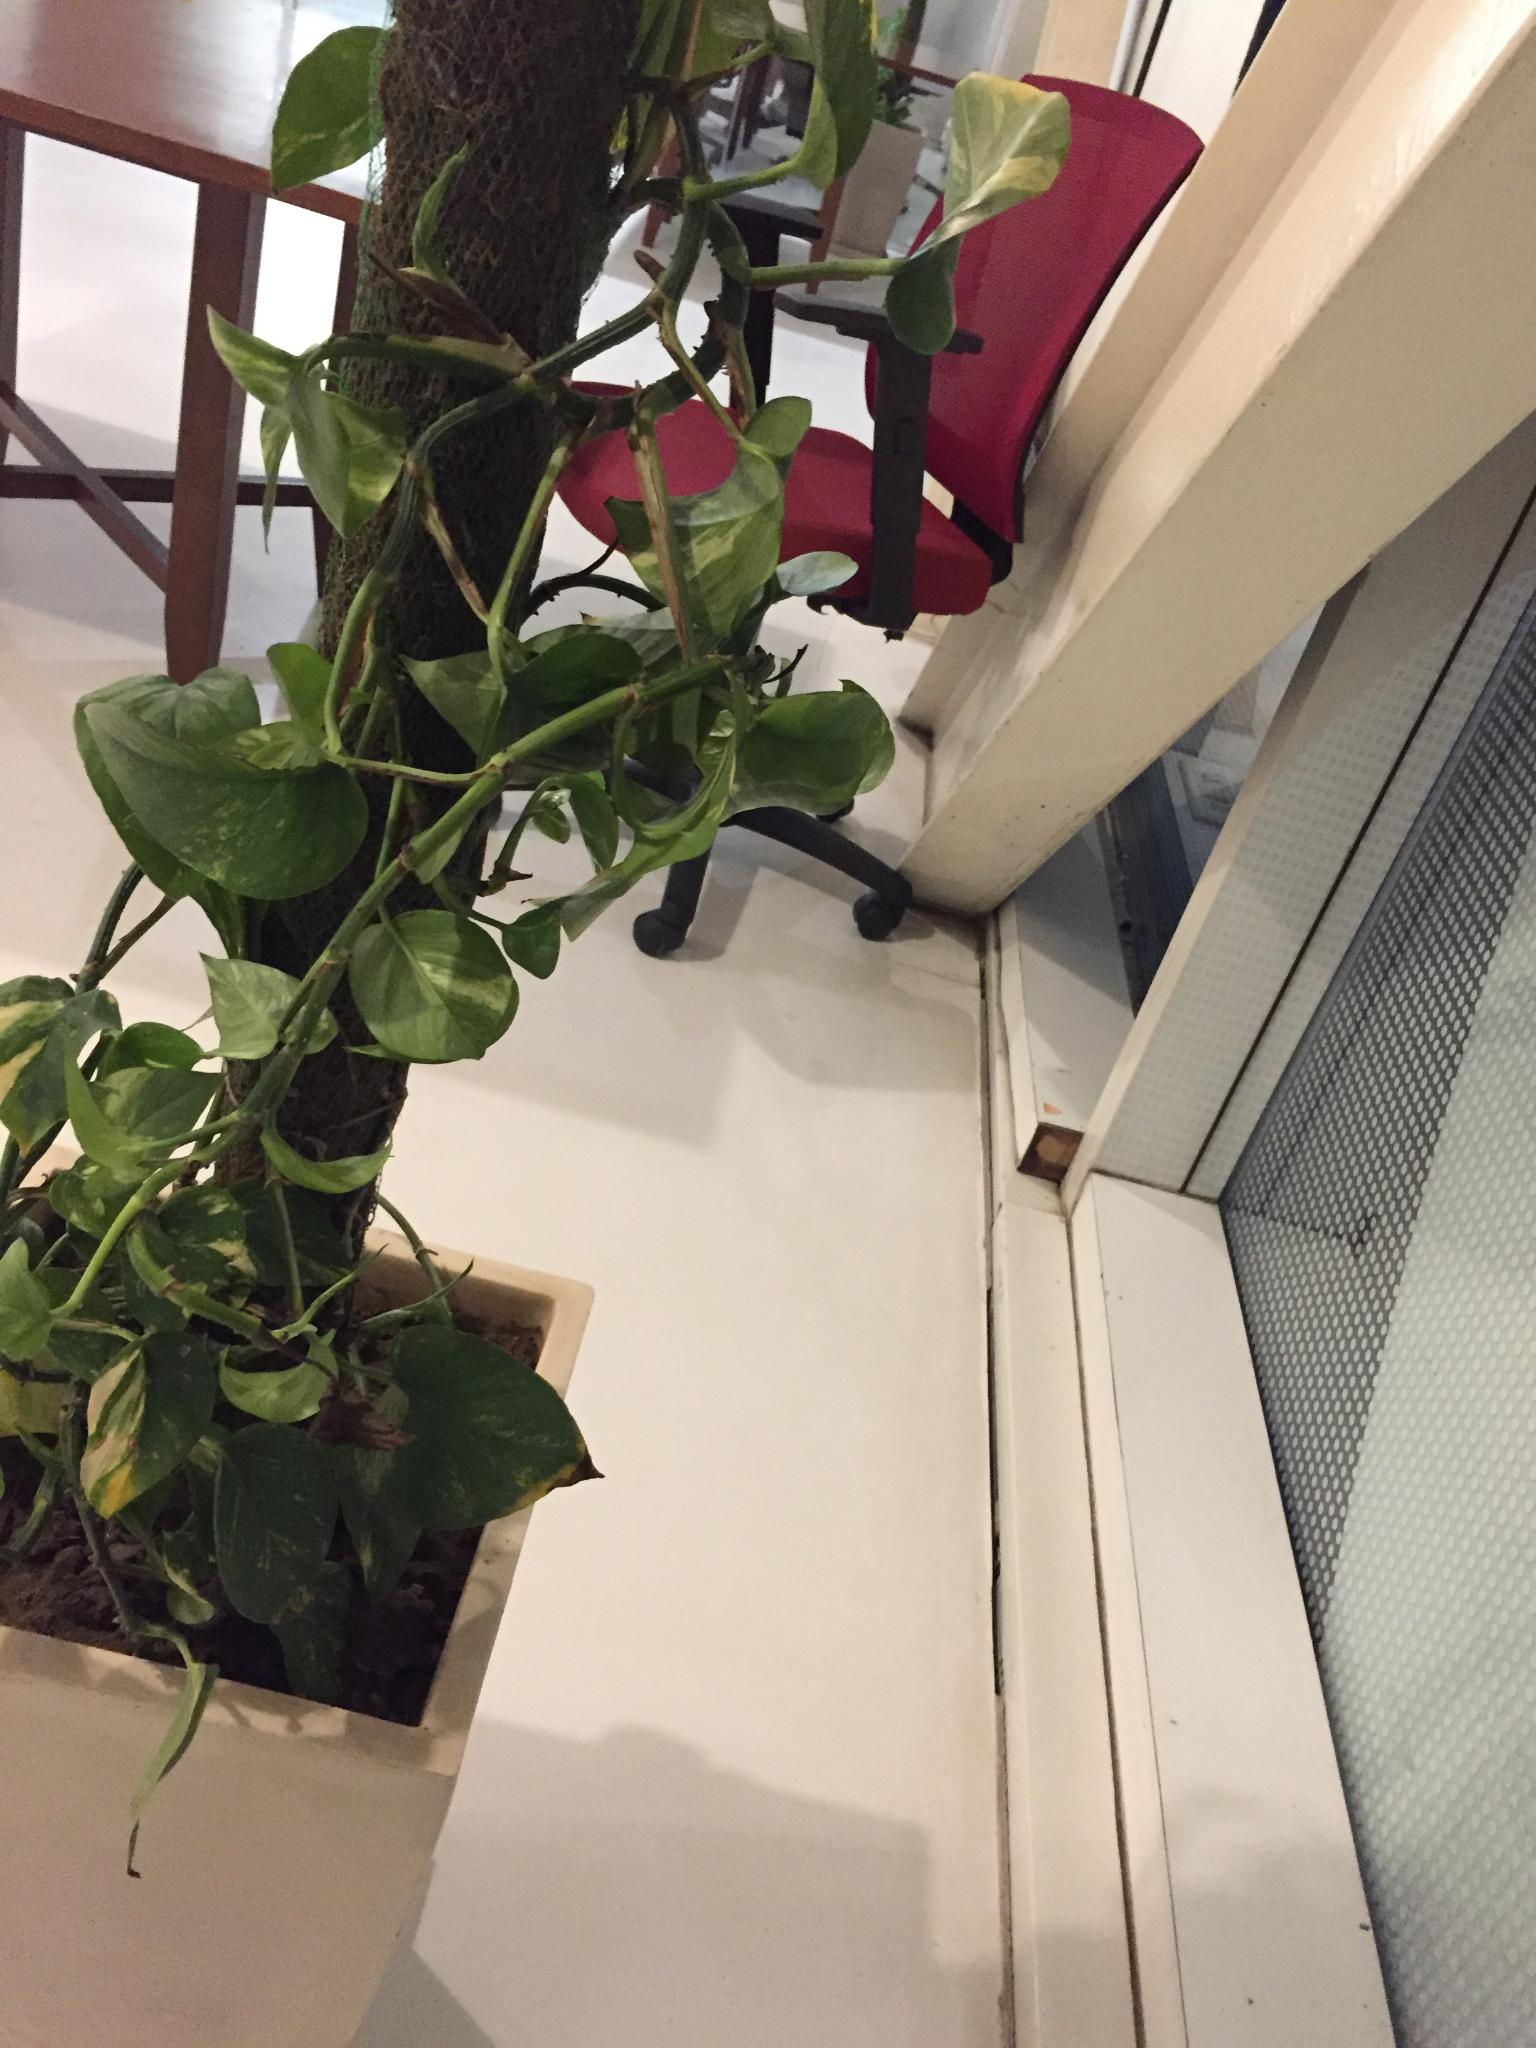chair: (544, 68, 1205, 958)
